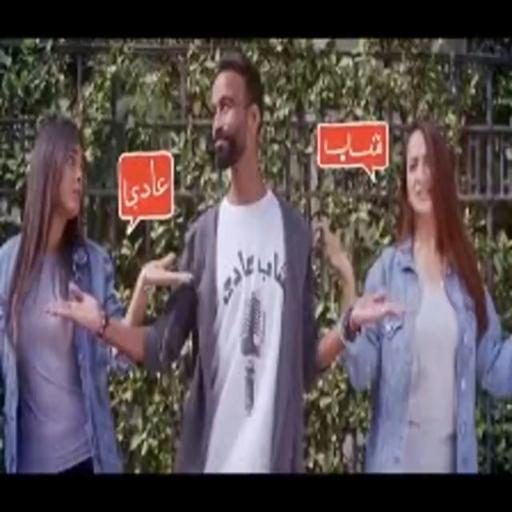nao-violencia: (44, 39, 512, 474), (2, 43, 413, 472)
